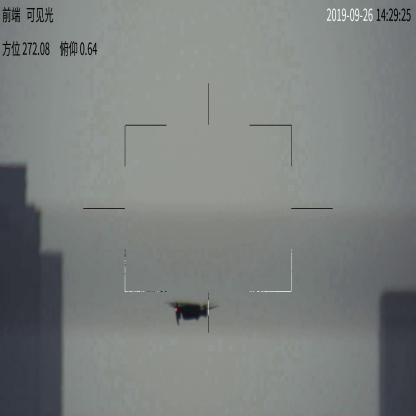uav: (169, 298, 216, 324)
